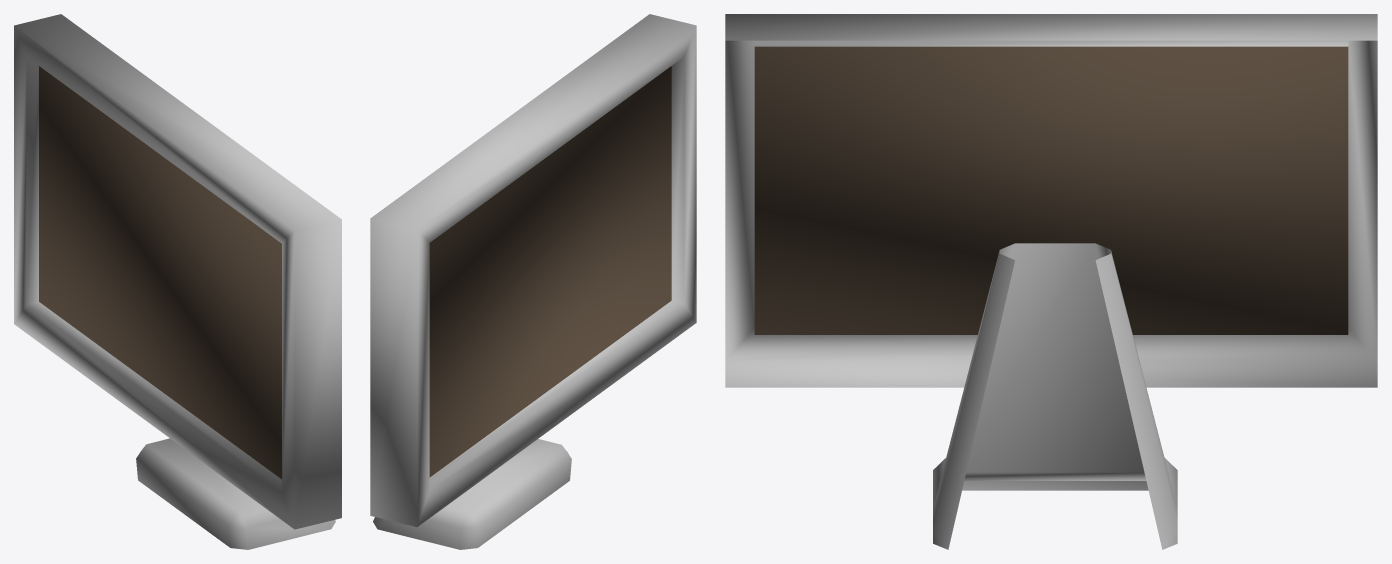
File: 5_7_Desktop.gltf
The picture shows the model from 3 angles, left to right: view 1: azimuth 30°, elevation 25°; view 2: azimuth 150°, elevation 25°; view 3: azimuth 270°, elevation 25°; orthographic projection. The views are drawn at different scales.
Visible parts, largest first — view 1: Cube.036; view 2: Cube.036; view 3: Cube.036.
Part boxes in pixels (x1,y1,x2,y2): Cube.036: (14,14,341,549); Cube.036: (370,14,696,549); Cube.036: (725,14,1377,549).
Size of the model in its own units: 1.32 by 3.64 by 4.69.
